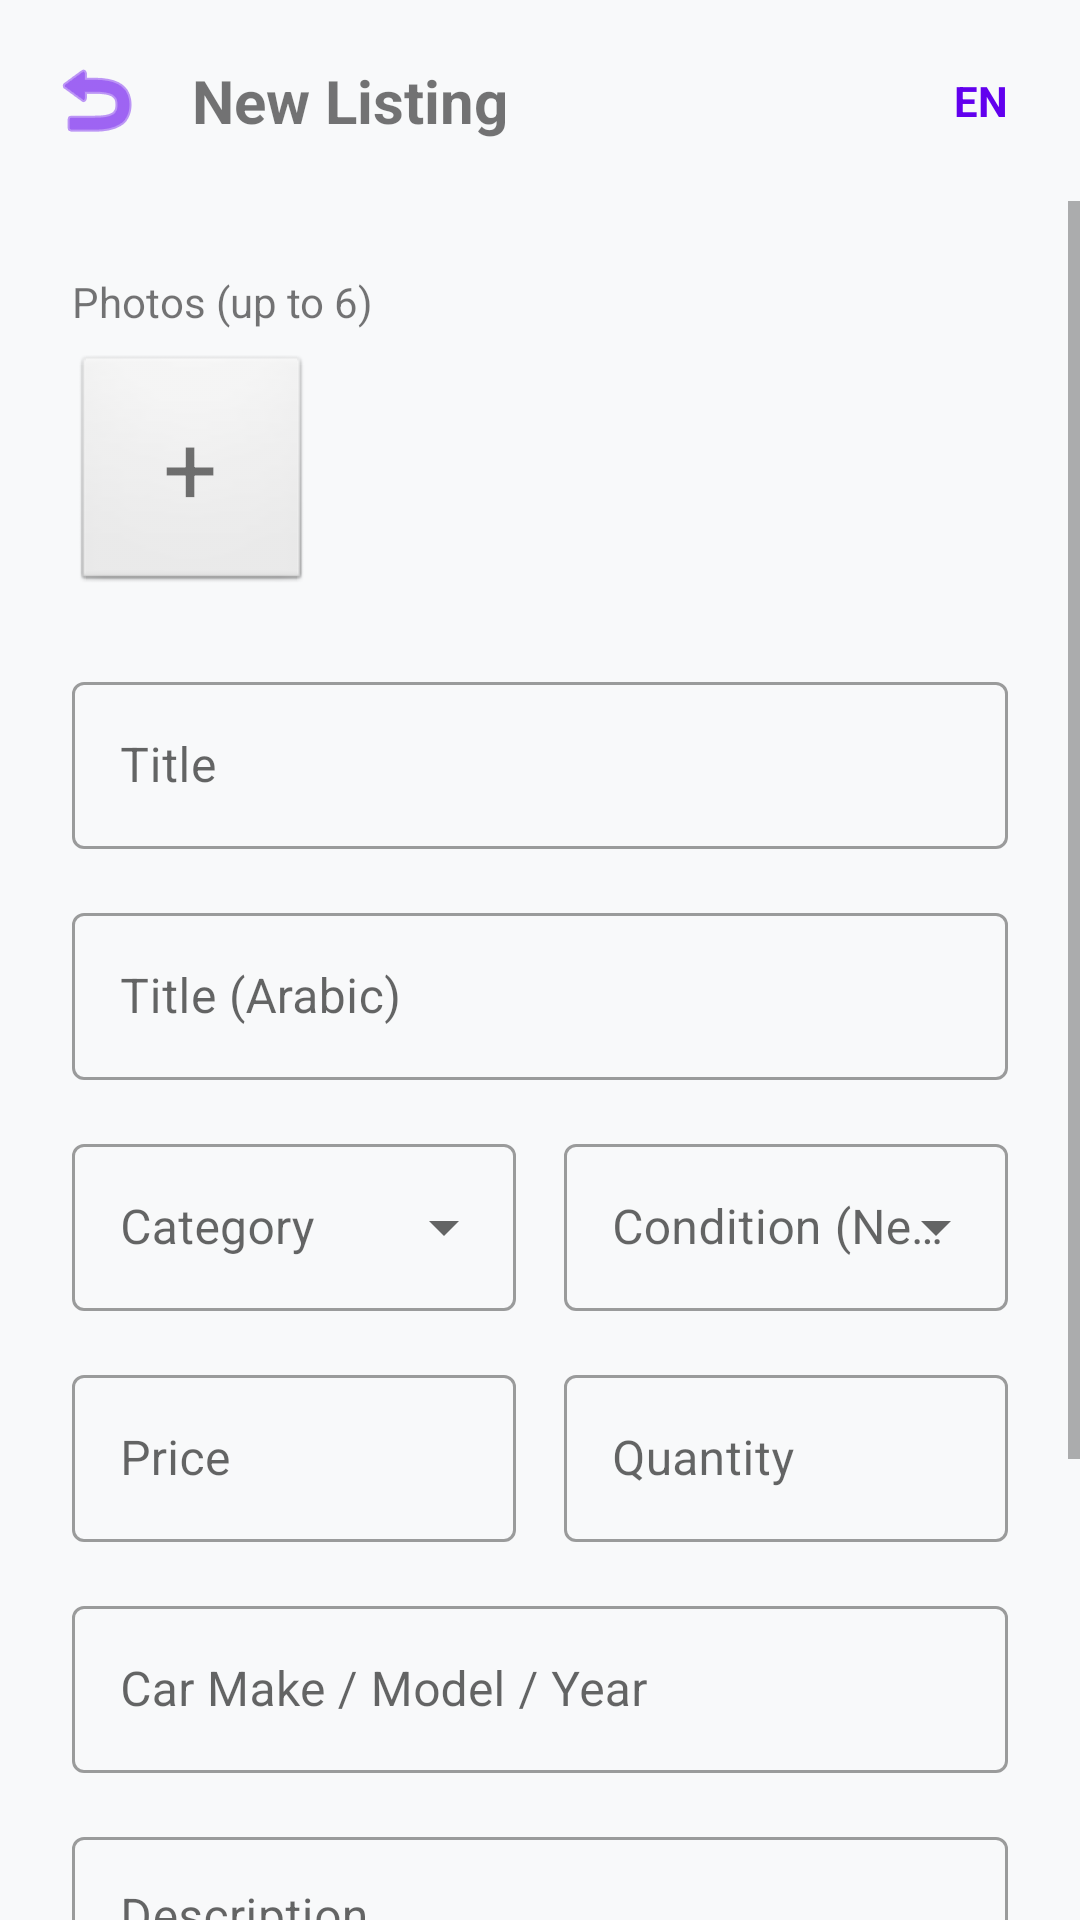

Named icons in this screenshot (1080px×1920px) and their bounding boxes, box(x1, y1, x2, y2):
Back: box(63, 69, 132, 132)
